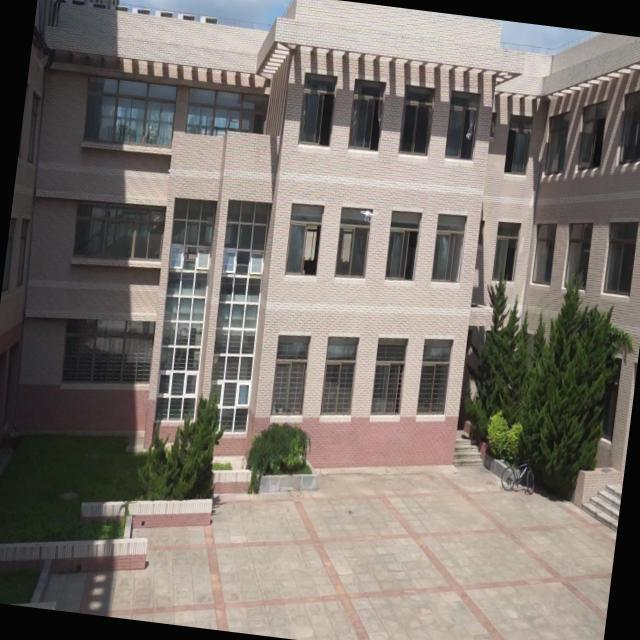drone: (358, 202, 380, 225)
